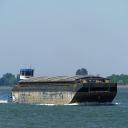tugboat: (8, 66, 41, 108)
